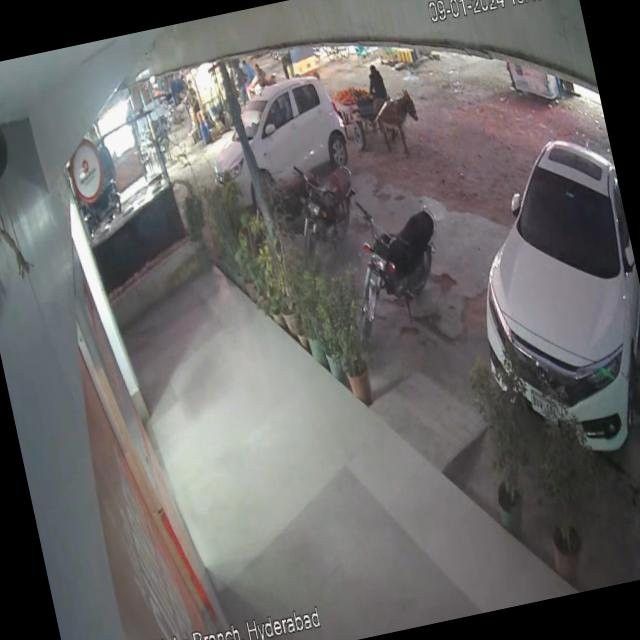Car: (436, 85, 640, 484), (176, 57, 357, 205)
Motorcycle: (329, 174, 467, 351), (290, 152, 371, 253)
